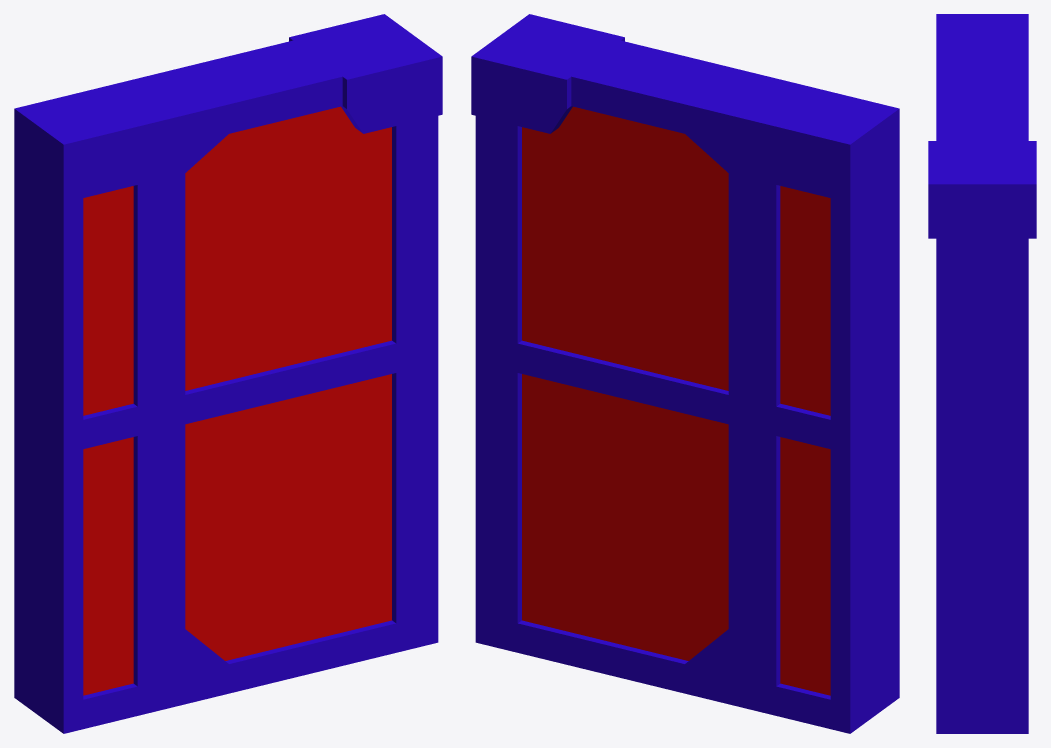
File: door_left.fbx
The picture shows the model from 3 angles, left to right: view 1: azimuth 30°, elevation 25°; view 2: azimuth 150°, elevation 25°; view 3: azimuth 270°, elevation 25°; orthographic projection. The views are drawn at different scales.
Visible parts, largest first — view 1: Object001; view 2: Object001; view 3: Object001.
Part boxes in pixels (x1,y1,x2,y2): Object001: (14, 14, 442, 733); Object001: (471, 14, 899, 733); Object001: (928, 14, 1036, 733).
Size of the model in its own units: 19.96 by 30 by 5.36.
